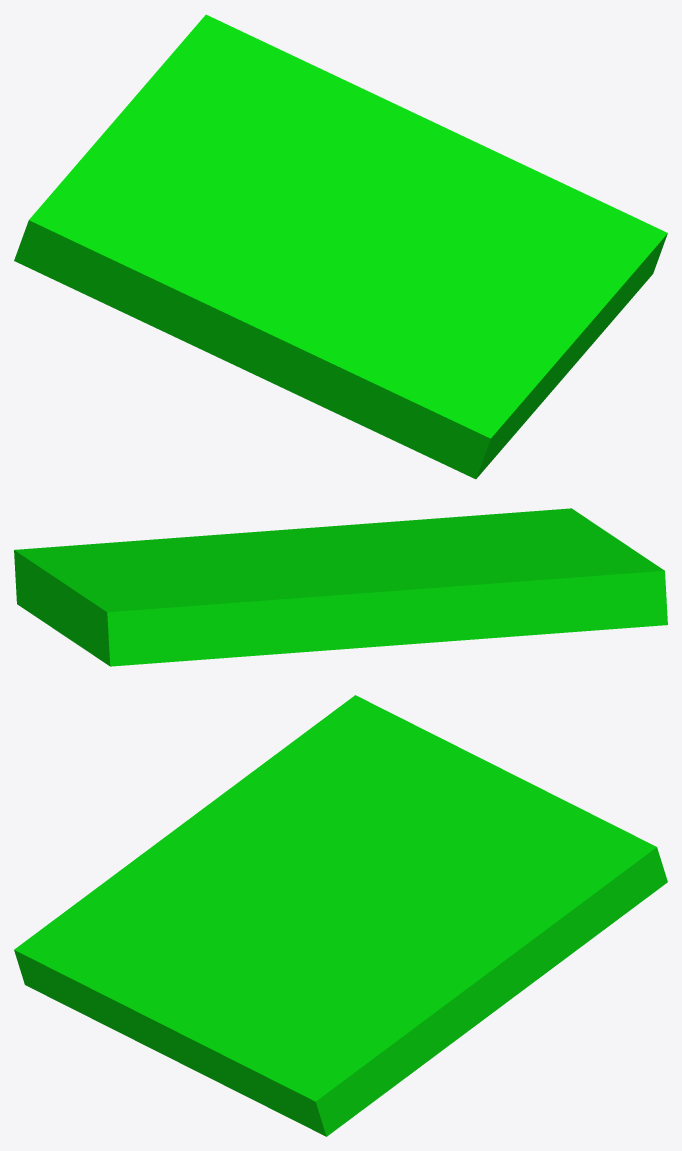
File: greenPaper.fbx
The picture shows the model from 3 angles, top to bottom: view 1: azimuth 30°, elevation 25°; view 2: azimuth 150°, elevation 25°; view 3: azimuth 270°, elevation 25°; orthographic projection. The views are drawn at different scales.
Parts seen in each view (by area): view 1: Paper; view 2: Paper; view 3: Paper.
Part boxes in pixels (<box>): Paper: <box>14,14,667,479</box>; Paper: <box>14,508,667,666</box>; Paper: <box>14,695,667,1136</box>.
Bounding box in the file's own units: 0.746 × 0.217 × 0.7447.
